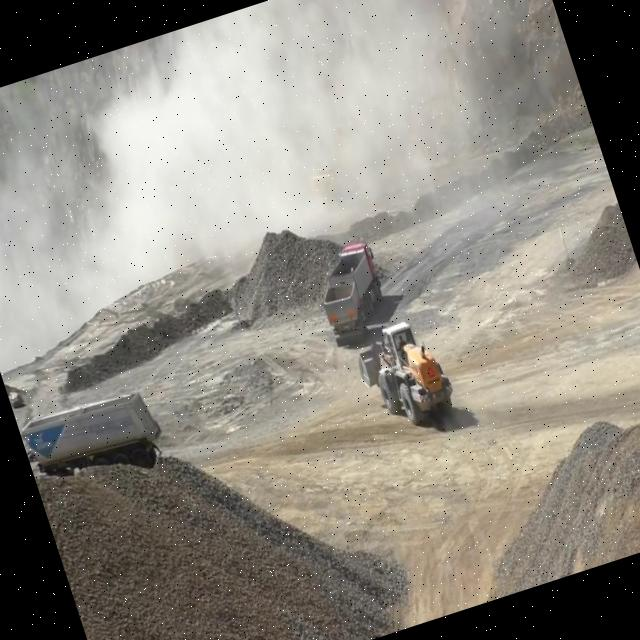Dump Truck: (17, 380, 173, 503), (306, 232, 400, 354)
Loader: (346, 308, 460, 438)
